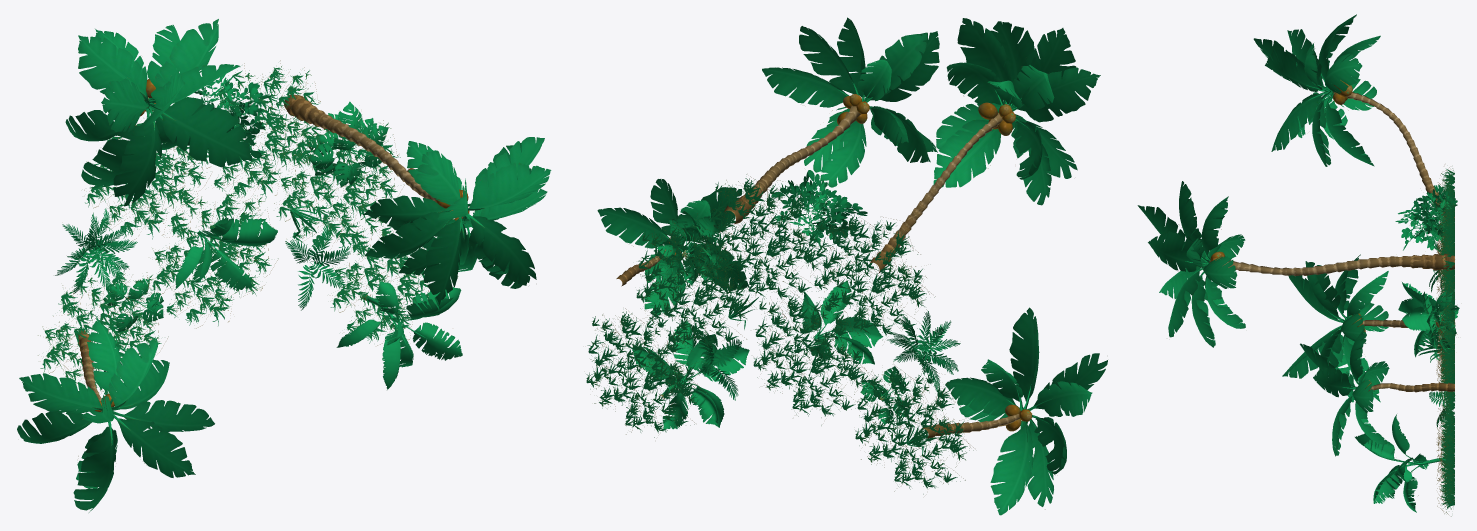
The model's file is Thảm thực vật.glb.
3 renders of one model, left to right at view 1: azimuth 30°, elevation 25°; view 2: azimuth 150°, elevation 25°; view 3: azimuth 270°, elevation 25°, orthographic. The views are drawn at different scales.
Parts seen in each view (by area): view 1: Tree_2, Tree_1, Tree_0; view 2: Tree_2, Tree_1, Tree_0; view 3: Tree_2, Tree_0, Tree_1.
Boxes of the visible parts, x1=… form: Tree_2: x1=17, y1=19, x2=551, y2=512; Tree_1: x1=55, y1=101, x2=462, y2=389; Tree_0: x1=77, y1=79, x2=486, y2=445; Tree_2: x1=586, y1=17, x2=1107, y2=515; Tree_1: x1=632, y1=210, x2=960, y2=429; Tree_0: x1=616, y1=82, x2=1052, y2=441; Tree_2: x1=1137, y1=14, x2=1457, y2=516; Tree_0: x1=1185, y1=73, x2=1455, y2=484; Tree_1: x1=1355, y1=234, x2=1459, y2=512.
Bounding box in the file's own units: 12.92 × 11.44 × 8.68.
3 materials, 3 textured.
